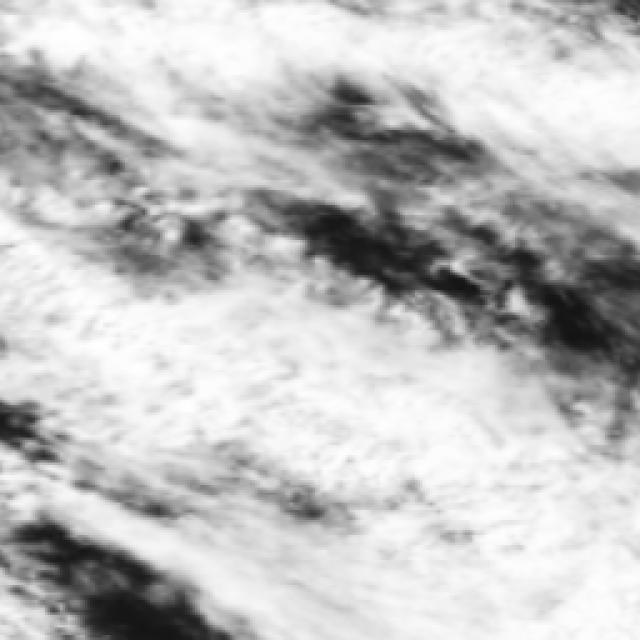CB: (442, 470, 640, 640), (158, 340, 388, 440), (81, 24, 292, 76)
